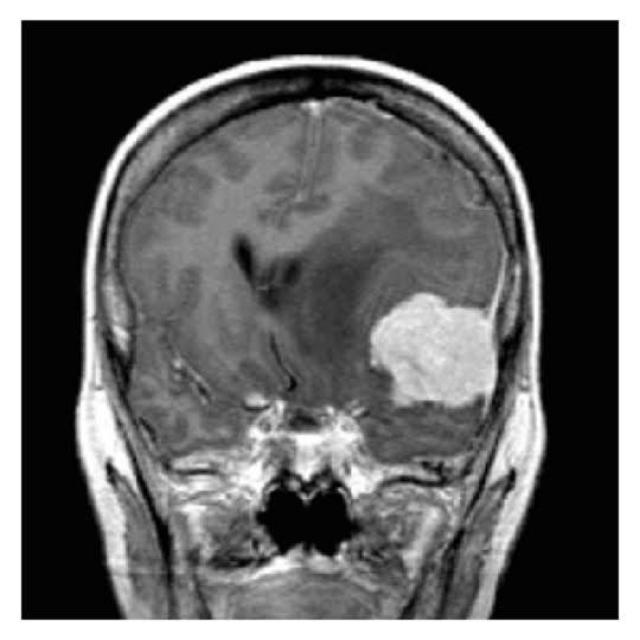Tumor: (371, 294, 494, 408)
